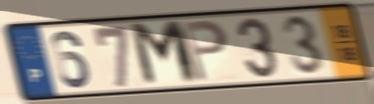3: (281, 13, 327, 78), (236, 16, 280, 80)
6: (50, 29, 92, 90)
7: (90, 24, 133, 90)
M: (126, 18, 203, 89)
P: (180, 17, 230, 84)
